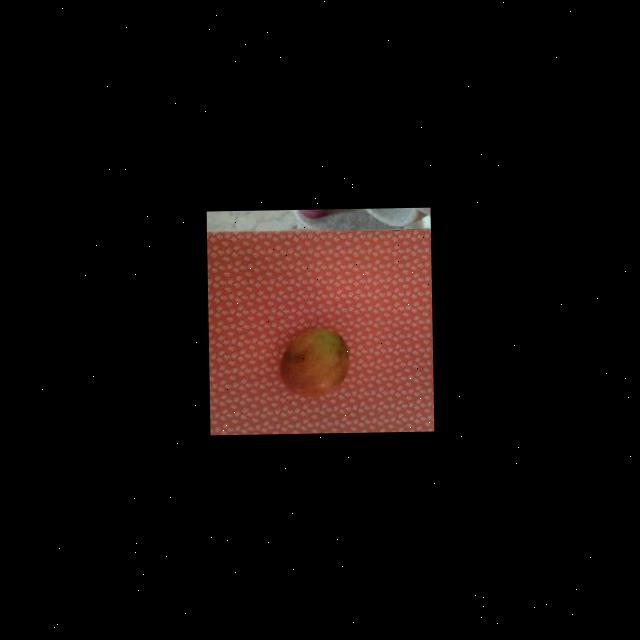Mango: (279, 326, 350, 396)
